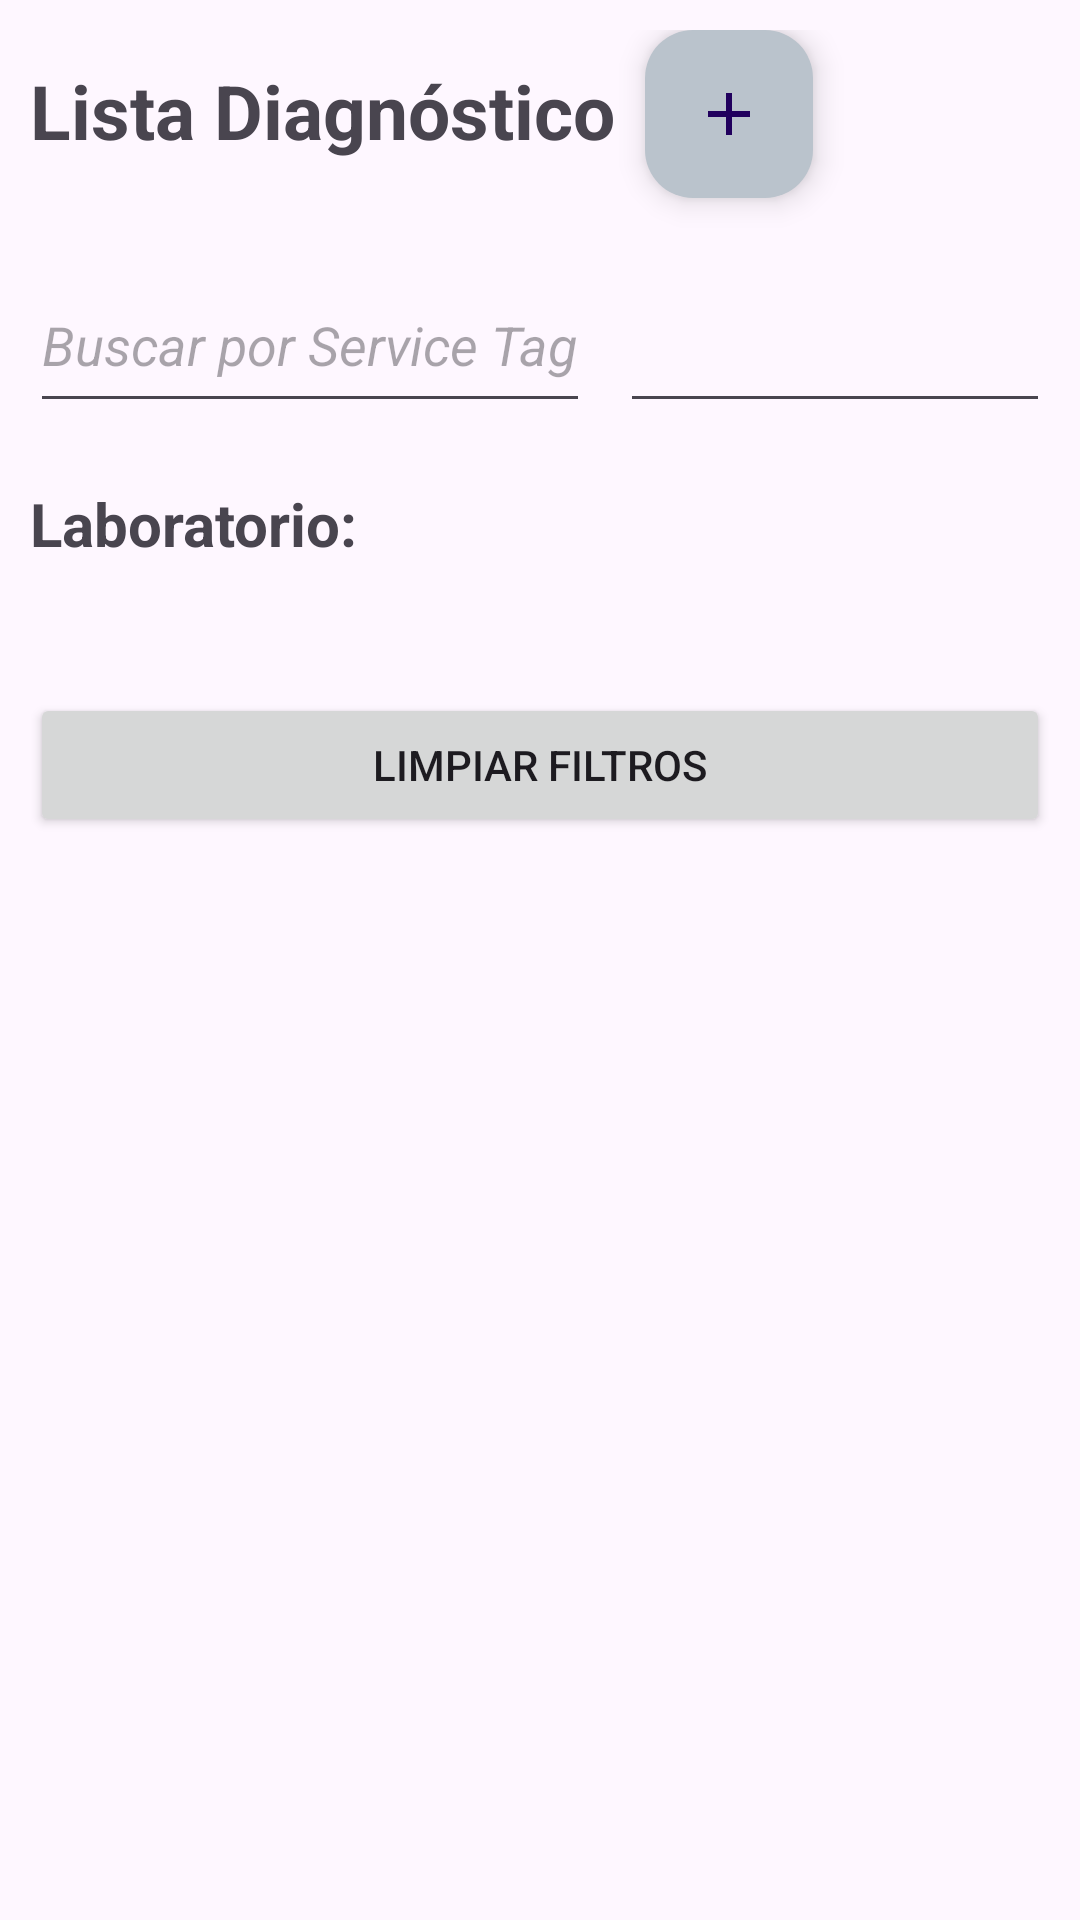

Where icons sit on this 1080×1920 app screen, as (x1, y1, x2, y2):
add: (645, 30, 813, 198)
